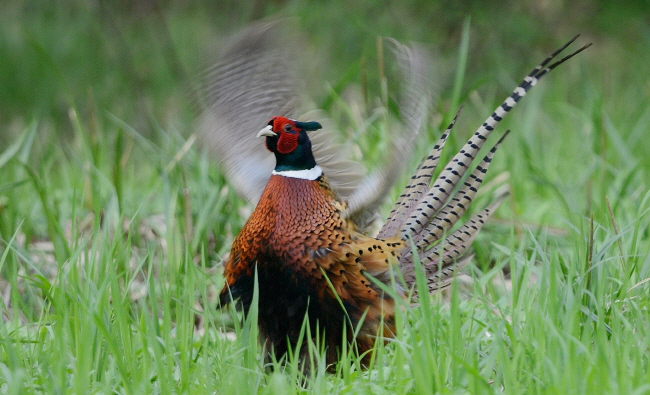pheasant: (221, 43, 508, 361)
